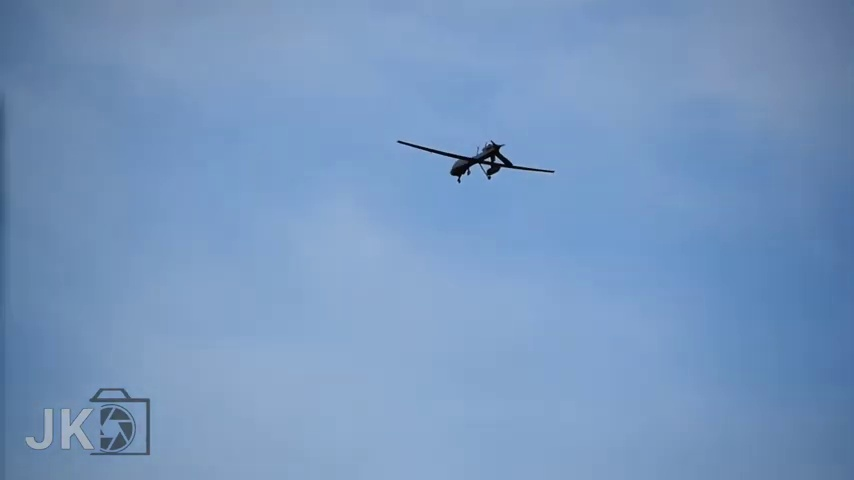military drone: (397, 139, 555, 183)
